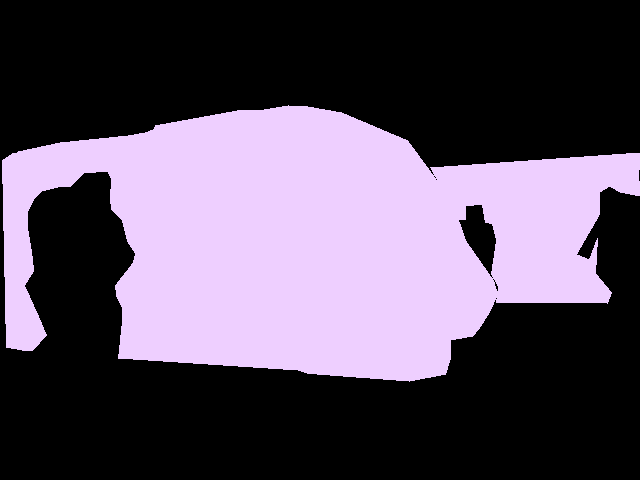Train: (2, 105, 498, 381), (430, 152, 640, 303)
